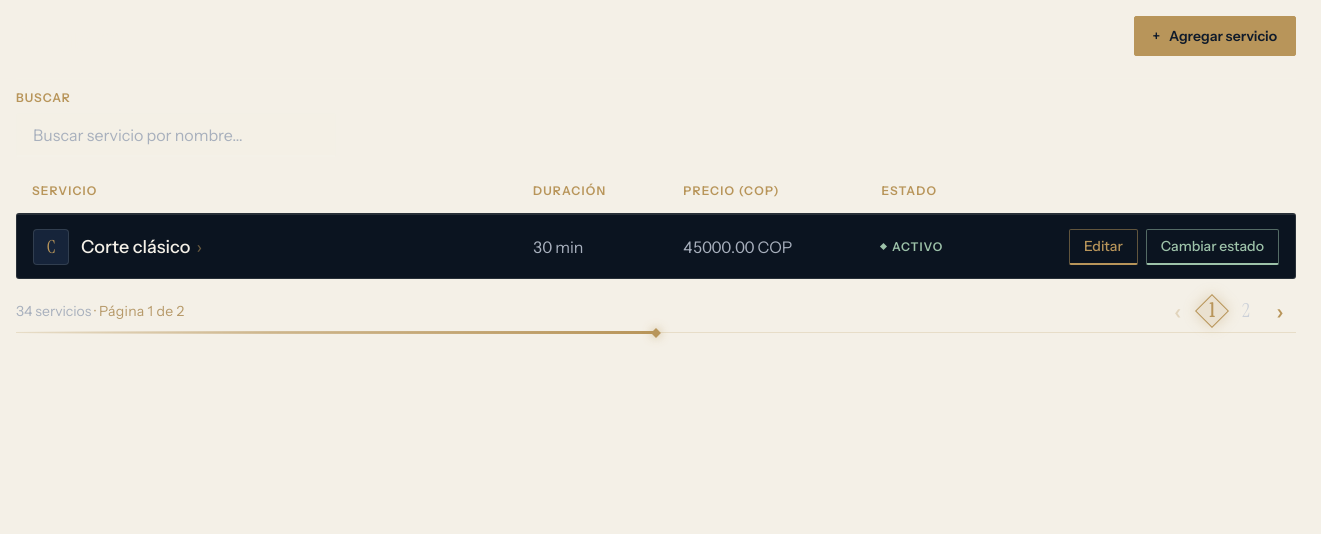
Test: CatalogPage › a page-fetch failure keeps the current rows visible and offers Reintentar
The width and height of the screenshot is (1321, 534).
Click the button "2" at [1246, 311], box [1230, 295, 1262, 327]
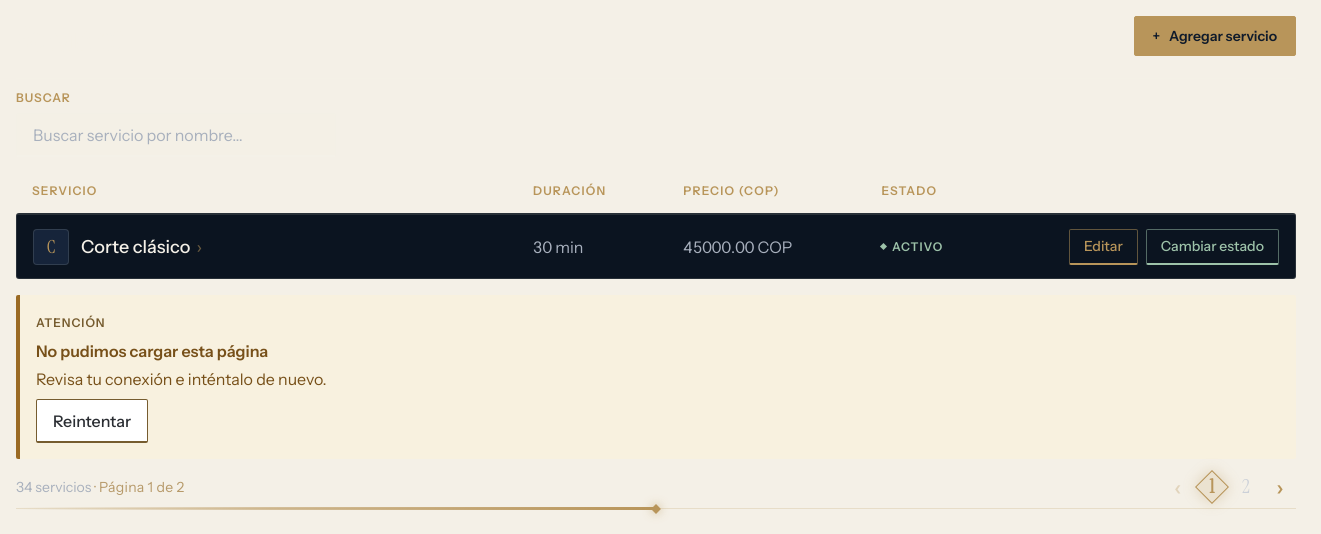
Expected: the text "Corte clásico" is shown, [81, 234, 190, 258]
Now the text "No pudimos cargar esta página" is shown, box [36, 341, 268, 361]
Click the button "Reintentar" at [92, 421], box [36, 399, 148, 443]
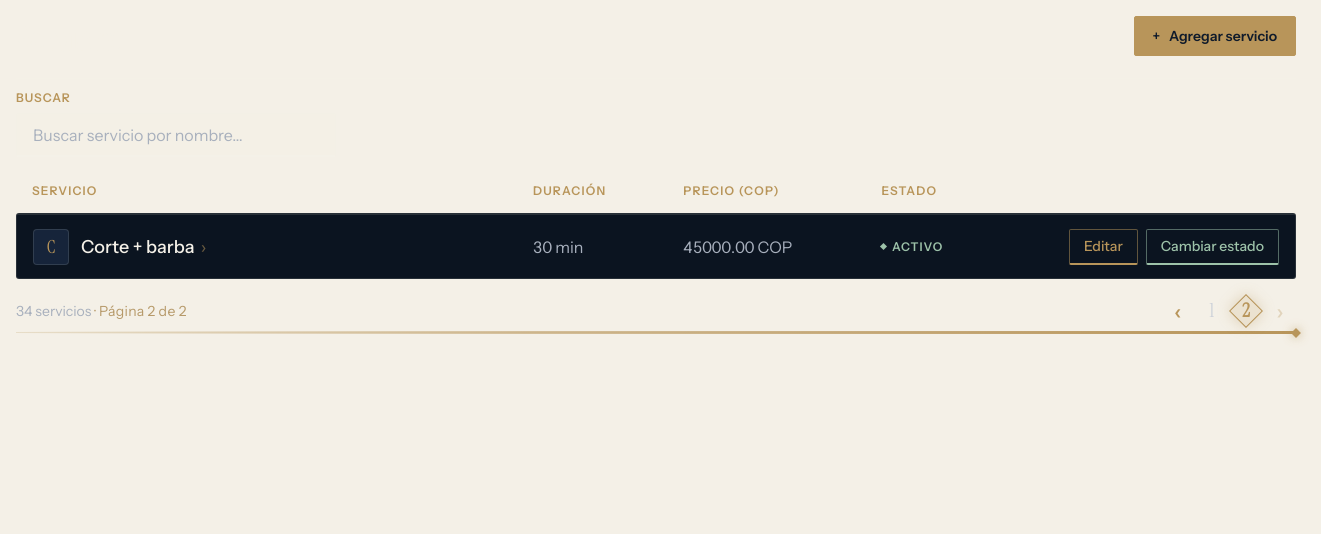
Now the text "Corte + barba" is shown, box [81, 234, 194, 258]
